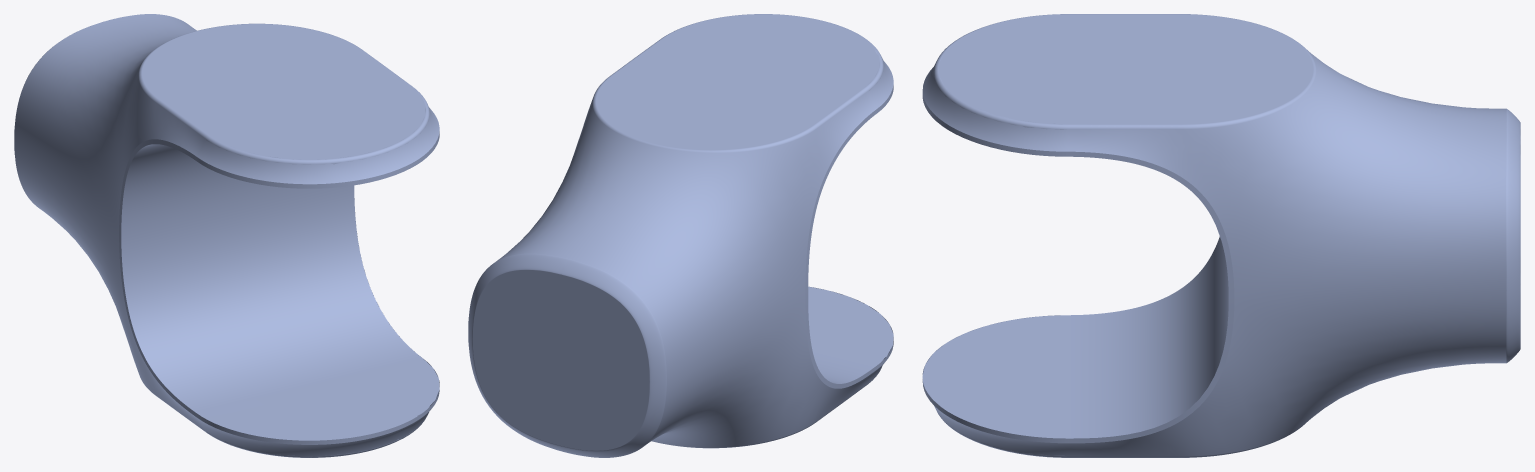
The model's file is 小原子左小臂.glb.
The picture shows the model from 3 angles, left to right: view 1: azimuth 30°, elevation 25°; view 2: azimuth 150°, elevation 25°; view 3: azimuth 270°, elevation 25°; orthographic projection. The views are drawn at different scales.
Bounding box in the file's own units: 0.0626 × 0.0764 × 0.1244.
